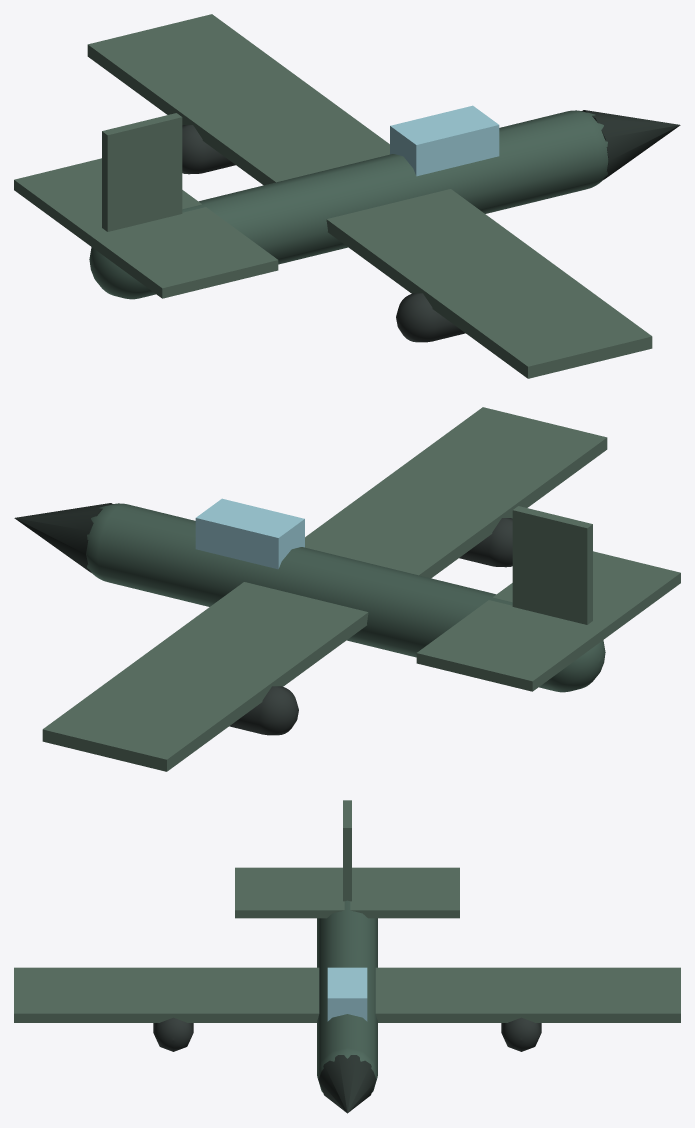
The model's file is aircraft.glb.
3 renders of one model, top to bottom at view 1: azimuth 30°, elevation 25°; view 2: azimuth 150°, elevation 25°; view 3: azimuth 270°, elevation 25°, orthographic. The views are drawn at different scales.
Parts seen in each view (by area): view 1: main_wing, fuselage, tailplane, tailfin, cockpit, engine_nacelle (×2), nose_cone; view 2: main_wing, fuselage, tailplane, tailfin, cockpit, engine_nacelle (×2), nose_cone; view 3: main_wing, tailplane, fuselage, nose_cone, engine_nacelle (×2), cockpit, tailfin.
Part boxes in pixels (<box>): main_wing: <box>87,14,652,378</box>; fuselage: <box>89,110,608,299</box>; tailplane: <box>14,158,278,298</box>; tailfin: <box>102,113,182,231</box>; cockpit: <box>390,105,499,176</box>; engine_nacelle (×2): <box>182,125,465,342</box>; nose_cone: <box>582,110,680,180</box>; main_wing: <box>42,407,607,771</box>; fuselage: <box>86,503,605,692</box>; tailplane: <box>416,551,680,691</box>; tailfin: <box>512,506,592,624</box>; cockpit: <box>195,498,304,569</box>; engine_nacelle (×2): <box>229,518,512,735</box>; nose_cone: <box>14,503,112,573</box>; main_wing: <box>14,967,680,1022</box>; tailplane: <box>235,867,459,918</box>; fuselage: <box>317,900,377,1092</box>; nose_cone: <box>318,1055,376,1113</box>; engine_nacelle (×2): <box>153,1017,541,1051</box>; cockpit: <box>327,967,367,1021</box>; tailfin: <box>343,800,351,901</box>.
Bounding box in the file's own units: 7.15 × 2.01 × 9.2.
